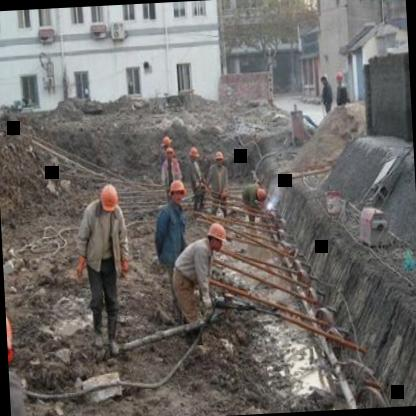helmet: (4, 300, 18, 373), (205, 219, 230, 254), (95, 181, 121, 214), (166, 176, 186, 202), (253, 183, 270, 202), (212, 148, 226, 170), (185, 145, 200, 161), (158, 134, 174, 148), (162, 144, 177, 158)
